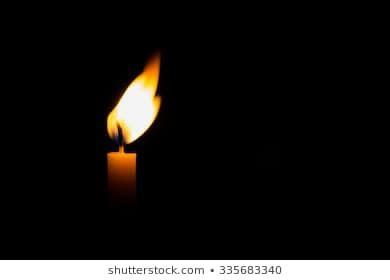fire: (106, 53, 163, 147)
